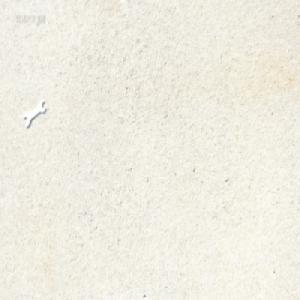Wrench: (24, 95, 47, 127)
